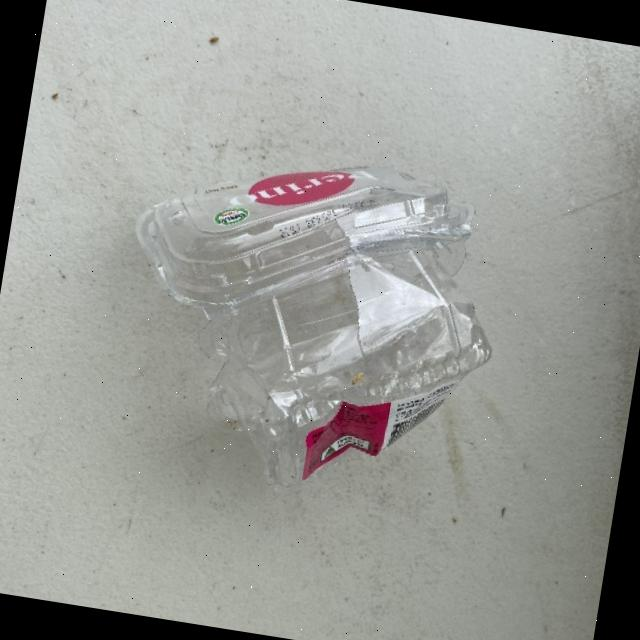plastic: (99, 126, 518, 515)
